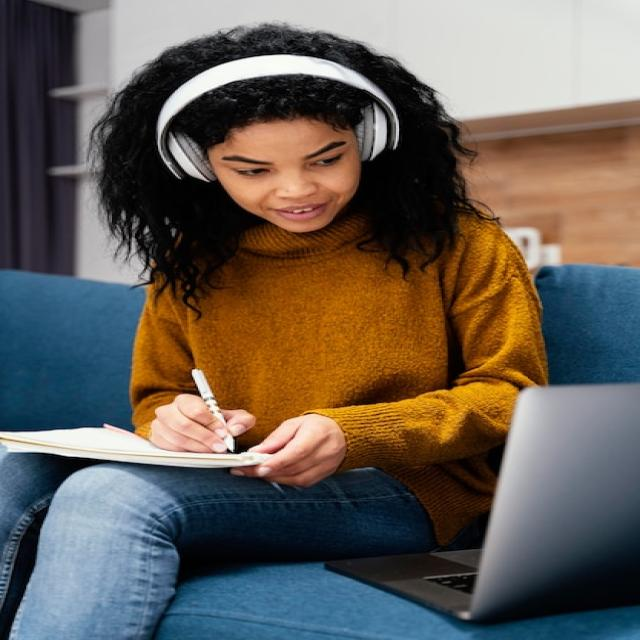Headphone: (152, 55, 404, 183)
